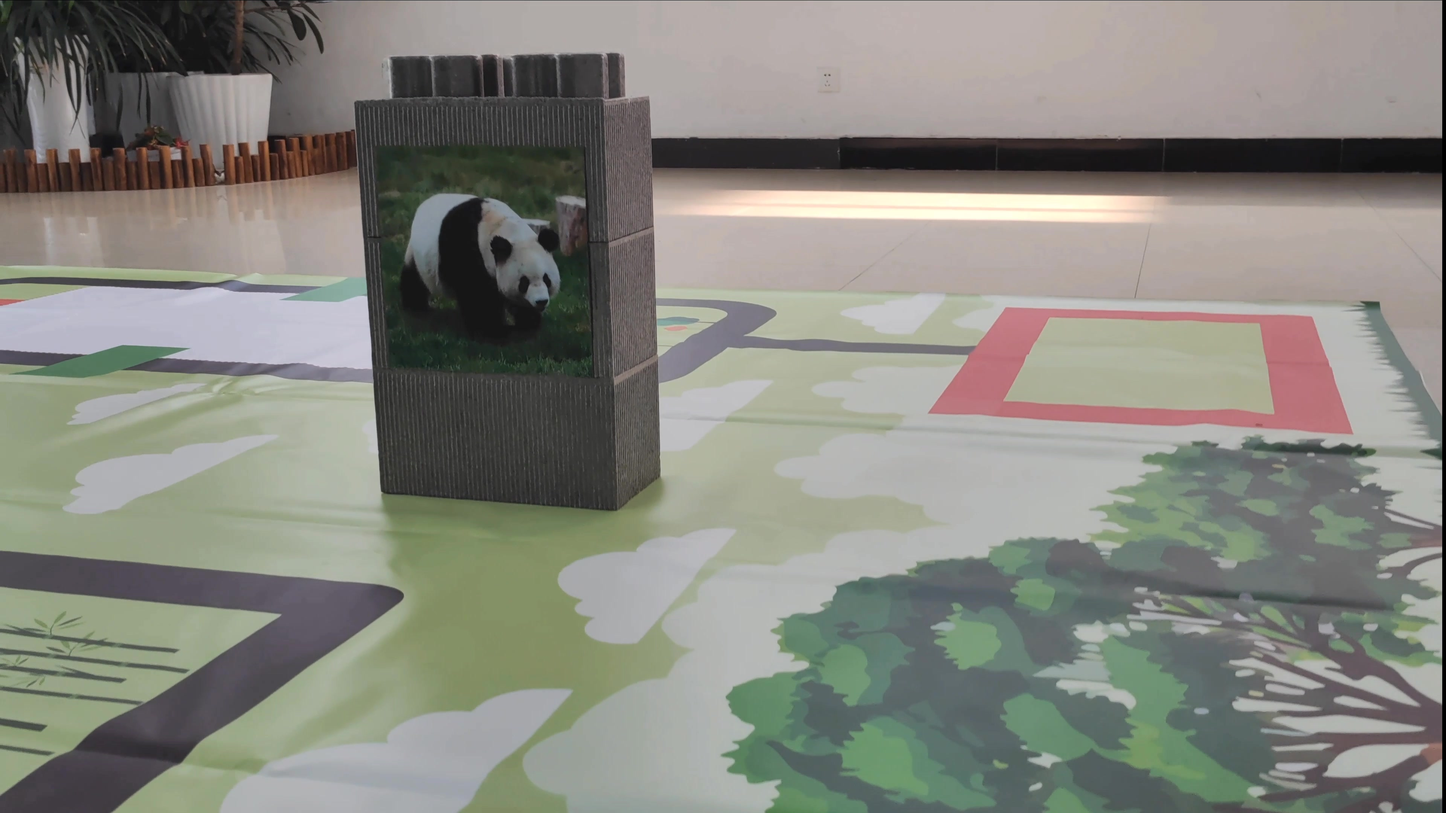panda: (383, 162, 607, 355)
